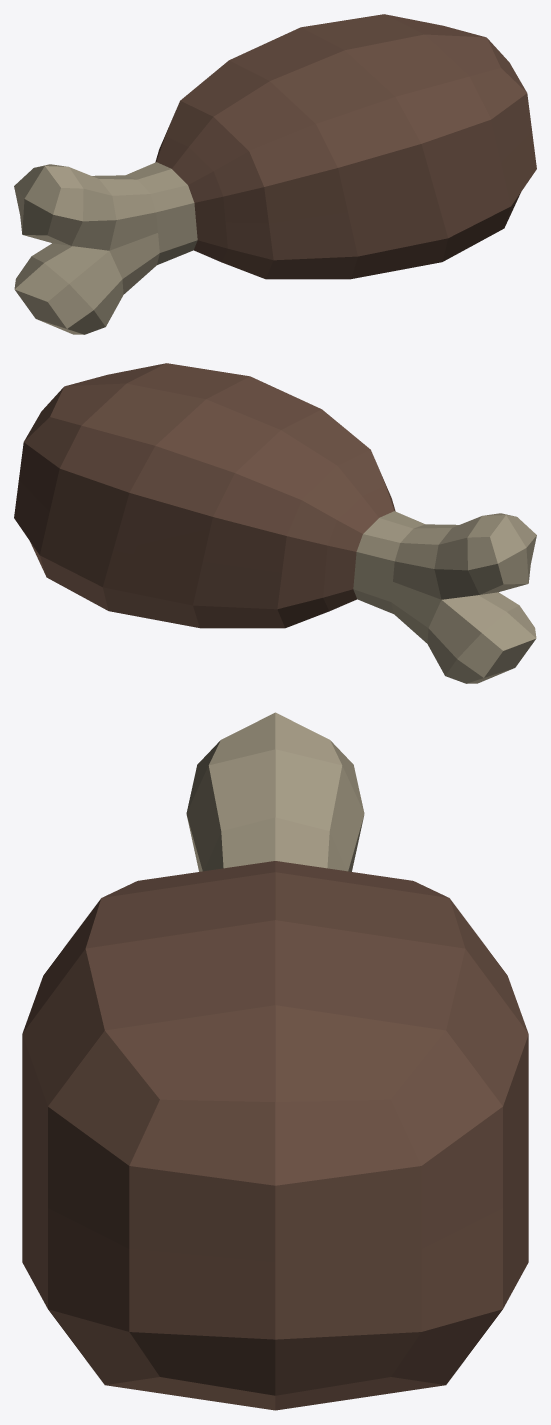
The model's file is ChickenLeg.glb.
3 views of the same model, one above another, from view 1: azimuth 30°, elevation 25°; view 2: azimuth 150°, elevation 25°; view 3: azimuth 270°, elevation 25° (orthographic). The views are drawn at different scales.
Visible parts, largest first — view 1: ChickenLeg; view 2: ChickenLeg; view 3: ChickenLeg.
Boxes of the visible parts, x1=… form: ChickenLeg: x1=14, y1=14, x2=536, y2=334; ChickenLeg: x1=14, y1=363, x2=536, y2=683; ChickenLeg: x1=22, y1=712, x2=528, y2=1410.
Size of the model in its own units: 0.4135 by 0.1719 by 0.1809.
